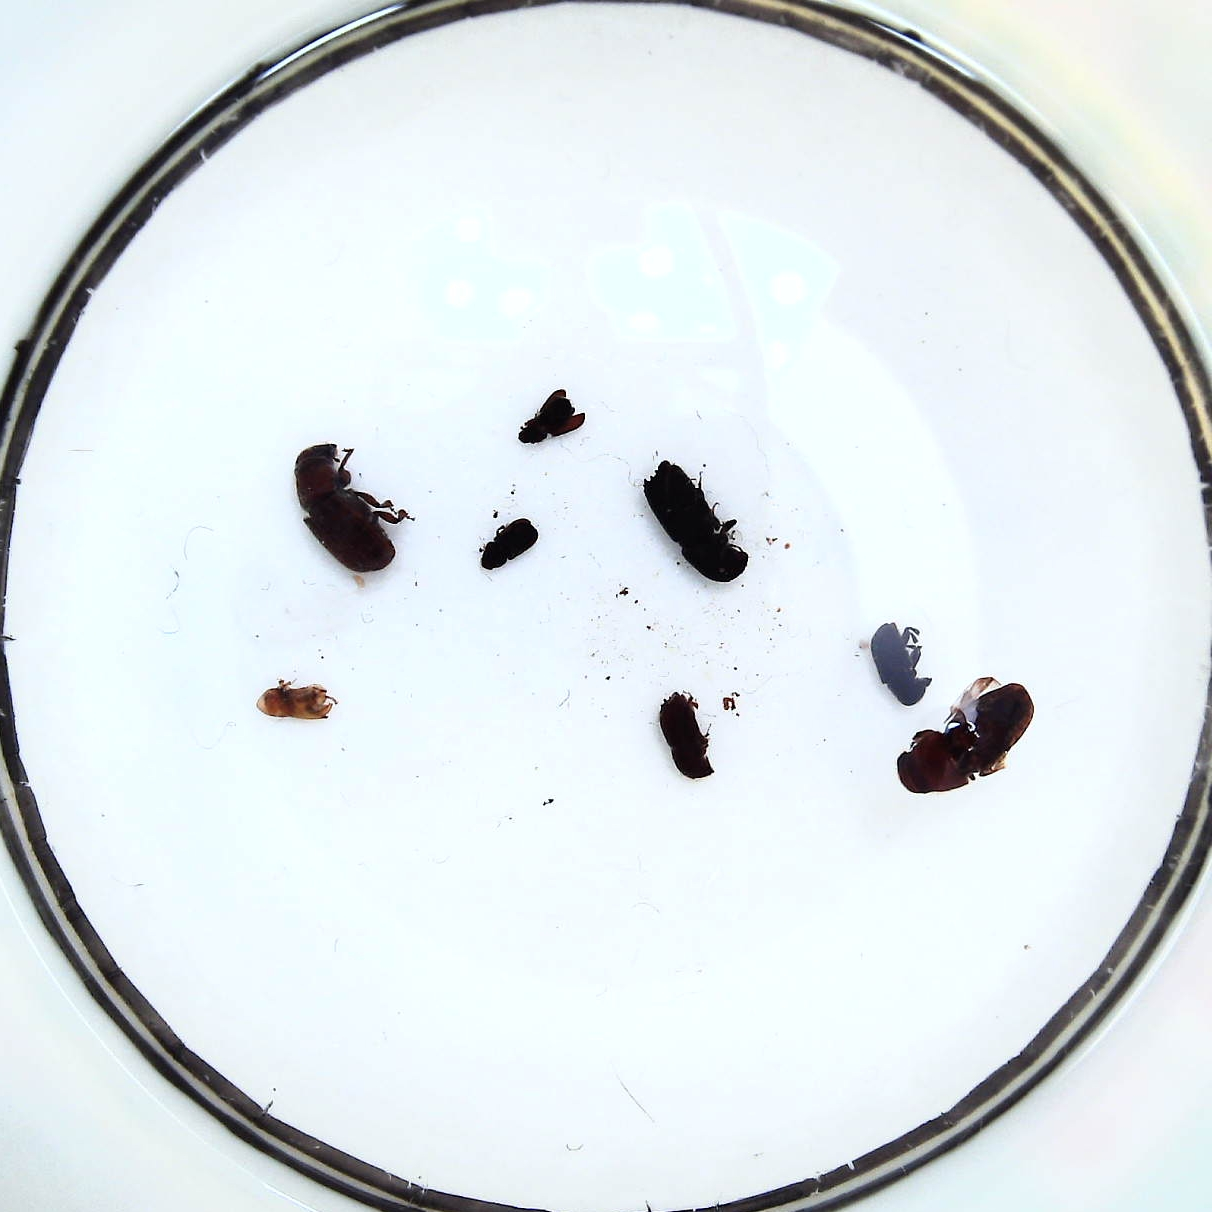Boerner: (644, 459, 747, 582)
Leconte: (896, 683, 1034, 792), (294, 442, 394, 573)
acuminatus: (518, 388, 585, 444), (479, 519, 539, 569)
armandi: (869, 620, 933, 706)
coleoptera: (257, 687, 333, 720)
linnaeus: (661, 691, 713, 778)
